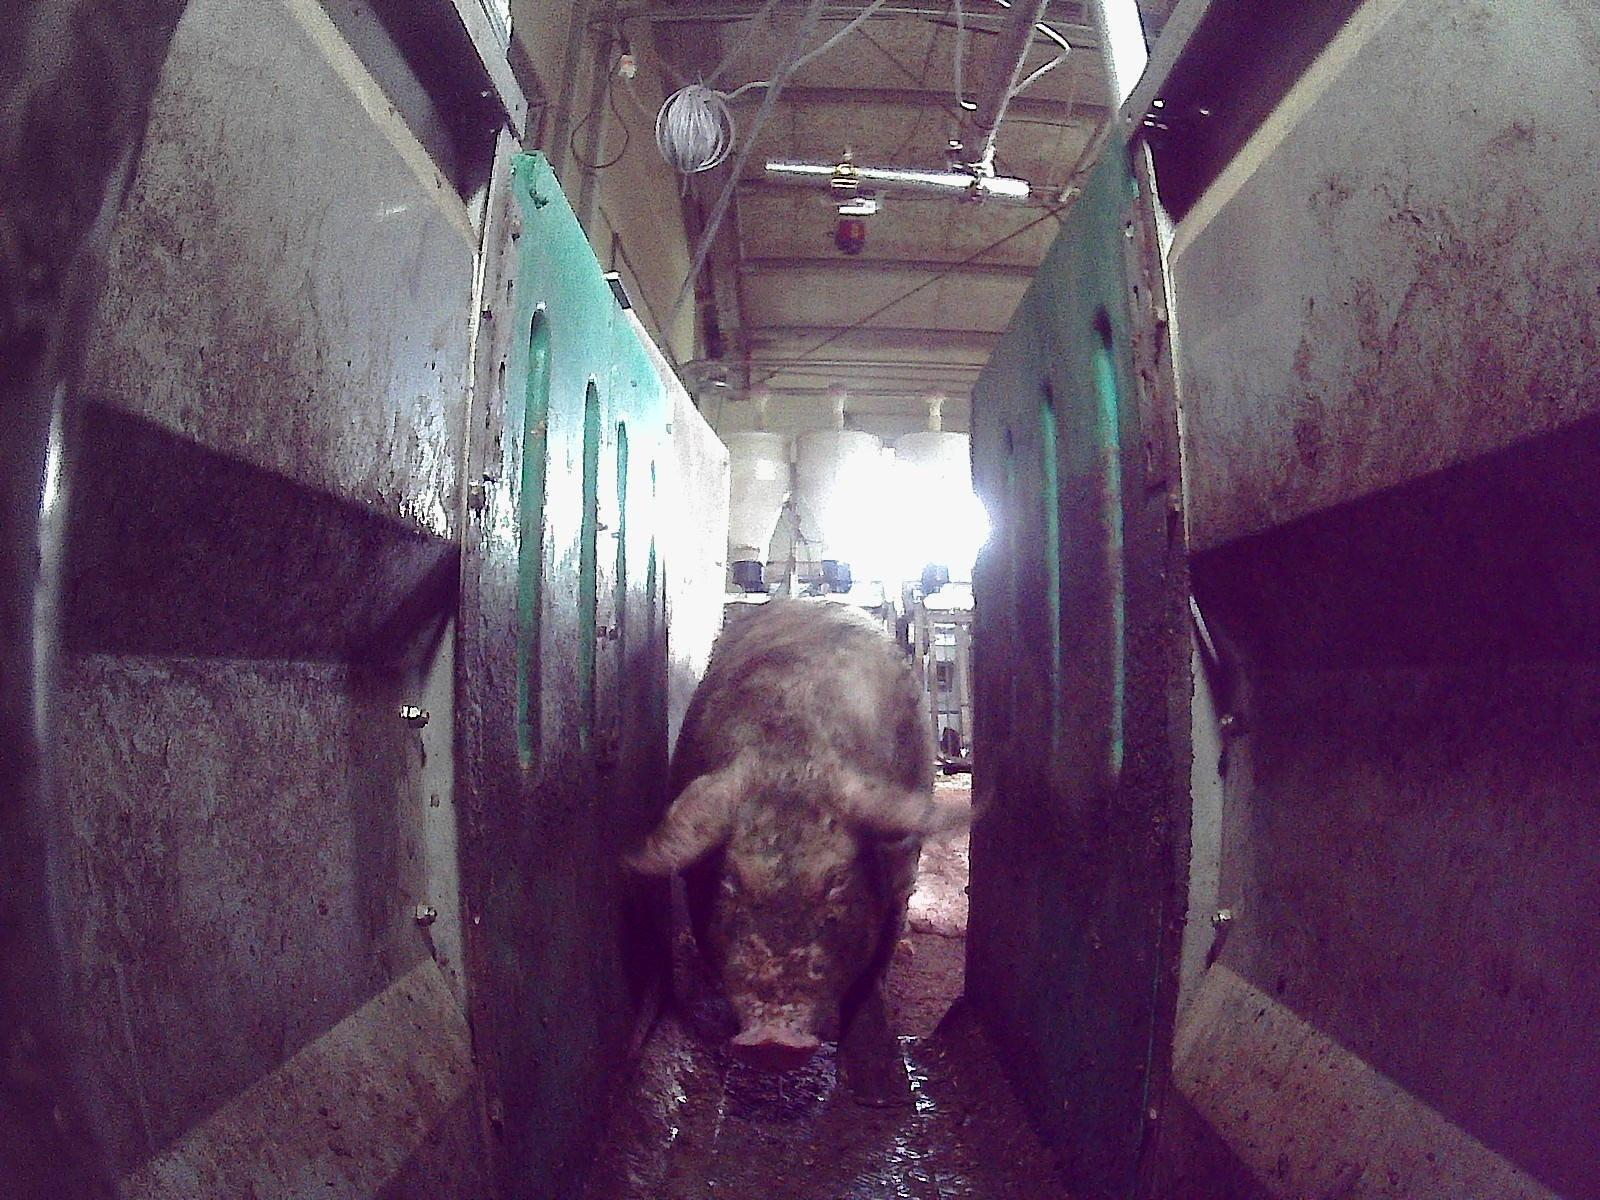Face: (684, 771, 884, 1076)
